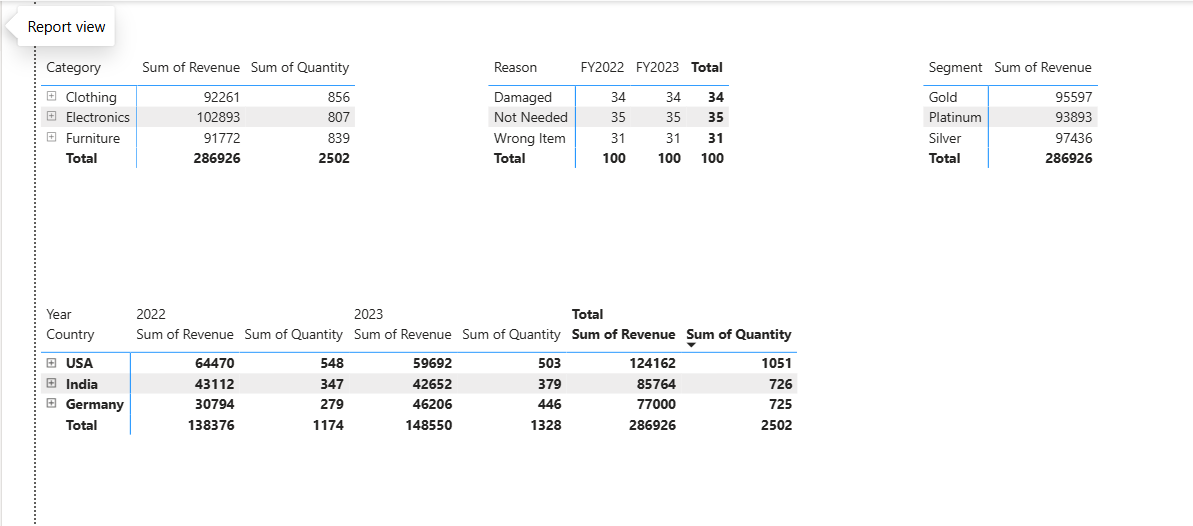

The page's visual inventory and layout, read from the dashboard file:
{"tool":"powerbi","page":{"name":"Page 1","canvas":[1280,720],"ordinal":0},"visuals":[{"type":"pivotTable","fields":{"Rows":["Region_Dim.Country","Customer_Dim.FullName","Product_Dim.ProductName"],"Values":["Sum(Sales_Fact.Revenue)","Sum(Sales_Fact.Quantity)"],"Columns":["Date_Dim.Date Hierarchy.Year","Date_Dim.Date Hierarchy.Quarter","Date_Dim.Date Hierarchy.Month","Date_Dim.Date Hierarchy.Date"]},"box":[0,290,1113.3,308.3],"z":0},{"type":"pivotTable","fields":{"Rows":["Product_Dim.Category","Region_Dim.Country"],"Values":["Sum(Sales_Fact.Revenue)","Sum(Sales_Fact.Quantity)"]},"box":[0,48.3,388.3,161.7],"z":1},{"type":"pivotTable","fields":{"Rows":["Returns_Fact.Reason"],"Columns":["Date_Dim.Fiscal Year"],"Values":["CountNonNull(Returns_Fact.ReturnID)"]},"box":[438.3,48.3,393.3,161.7],"z":2},{"type":"pivotTable","fields":{"Rows":["Customer_Dim.Segment"],"Values":["Sum(Sales_Fact.Revenue)"]},"box":[863.3,48.3,371.7,161.7],"z":3}]}

Visuals, with their boxes on the page's 1280x720 design canvas (x1, y1, x2, y2). These are canvas units, not pixel positions in the 1193x526 screenshot, which may show the page scaled, cropped or inside an application window:
pivotTable - Region_Dim.Country x Customer_Dim.FullName: (x1=0, y1=290, x2=1113, y2=598)
pivotTable - Product_Dim.Category x Region_Dim.Country: (x1=0, y1=48, x2=388, y2=210)
pivotTable - Returns_Fact.Reason x Date_Dim.Fiscal Year: (x1=438, y1=48, x2=832, y2=210)
pivotTable - Customer_Dim.Segment x Sum(Sales_Fact.Revenue): (x1=863, y1=48, x2=1235, y2=210)
